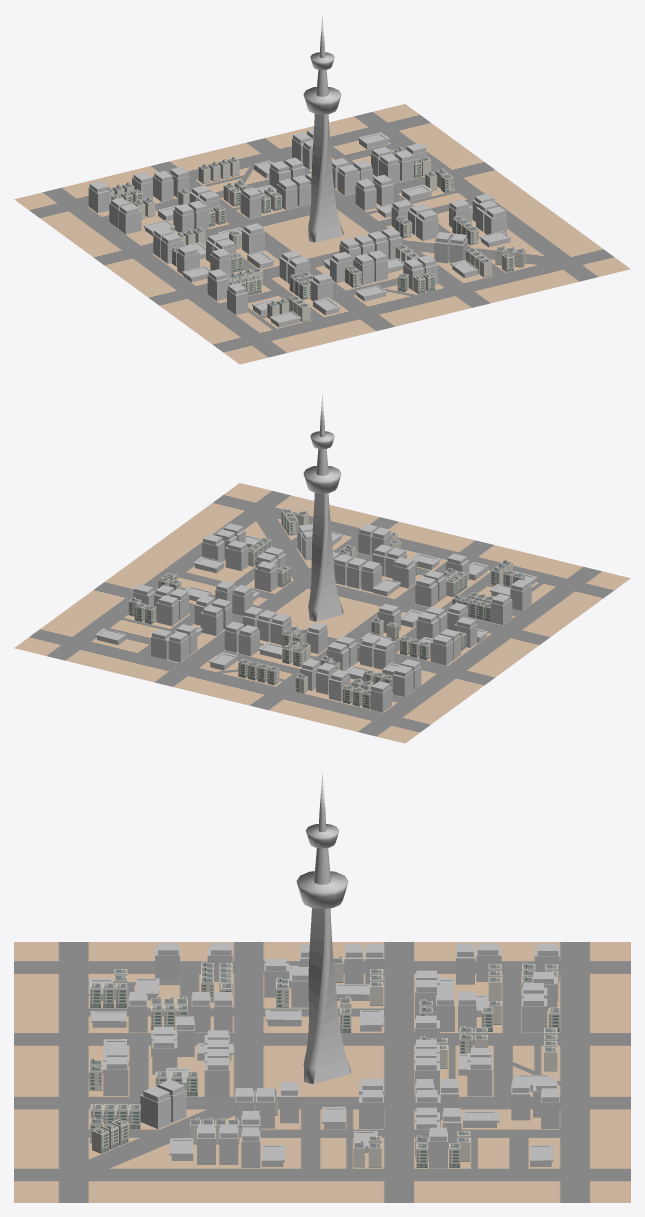
File: map.fbx
The picture shows the model from 3 angles, top to bottom: view 1: azimuth 30°, elevation 25°; view 2: azimuth 150°, elevation 25°; view 3: azimuth 270°, elevation 25°; orthographic projection. The views are drawn at different scales.
Parts seen in each view (by area): view 1: Plane, Cylinder, buil2.020, buil2.004, buil2.005, buil2.001, buil2.056, buil2.024, buil2.038, buil2.032, buil2.055, buil2.036 (+9 smaller); view 2: Plane, Cylinder, buil2.018, buil2, buil2.017, buil2.040, buil2.034, buil2.052, buil2.015, buil2.003, buil2.045, buil2.048 (+11 smaller); view 3: Plane, Cylinder, buil2.028, buil2.046, buil2.010, buil2.031, buil2.054, buil2.037, buil2.032, buil2.013, buil2.047, buil2.033 (+25 smaller).
Part boxes in pixels (left/top/right/bottom): Plane: left=14, top=104, right=630, bottom=364; Cylinder: left=303, top=14, right=343, bottom=242; buil2.020: left=416, top=209, right=438, bottom=240; buil2.004: left=119, top=203, right=141, bottom=234; buil2.005: left=242, top=223, right=264, bottom=254; buil2.001: left=355, top=179, right=376, bottom=210; buil2.056: left=88, top=181, right=109, bottom=213; buil2.024: left=240, top=187, right=261, bottom=218; buil2.038: left=337, top=164, right=360, bottom=195; buil2.032: left=227, top=283, right=247, bottom=314; buil2.055: left=152, top=170, right=173, bottom=201; buil2.036: left=207, top=269, right=228, bottom=300; Plane: left=14, top=483, right=630, bottom=743; Cylinder: left=303, top=393, right=343, bottom=621; buil2.018: left=254, top=561, right=277, bottom=591; buil2: left=430, top=634, right=453, bottom=665; buil2.017: left=225, top=540, right=248, bottom=571; buil2.040: left=200, top=605, right=223, bottom=635; buil2.034: left=415, top=576, right=437, bottom=607; buil2.052: left=156, top=595, right=178, bottom=625; buil2.015: left=392, top=557, right=415, bottom=588; buil2.003: left=392, top=665, right=413, bottom=696; buil2.045: left=238, top=625, right=259, bottom=656; buil2.048: left=168, top=631, right=189, bottom=662; Plane: left=14, top=942, right=630, bottom=1202; Cylinder: left=296, top=772, right=351, bottom=1084; buil2.028: left=140, top=1086, right=171, bottom=1128; buil2.046: left=467, top=1057, right=492, bottom=1096; buil2.010: left=204, top=1058, right=229, bottom=1096; buil2.031: left=103, top=1057, right=128, bottom=1095; buil2.054: left=522, top=993, right=547, bottom=1032; buil2.037: left=359, top=1090, right=383, bottom=1128; buil2.032: left=155, top=943, right=179, bottom=981; buil2.013: left=152, top=1035, right=177, bottom=1074; buil2.047: left=511, top=1079, right=530, bottom=1120; buil2.033: left=128, top=992, right=147, bottom=1032.
Bounding box in the file's own units: 50000 × 26858 × 50000.
